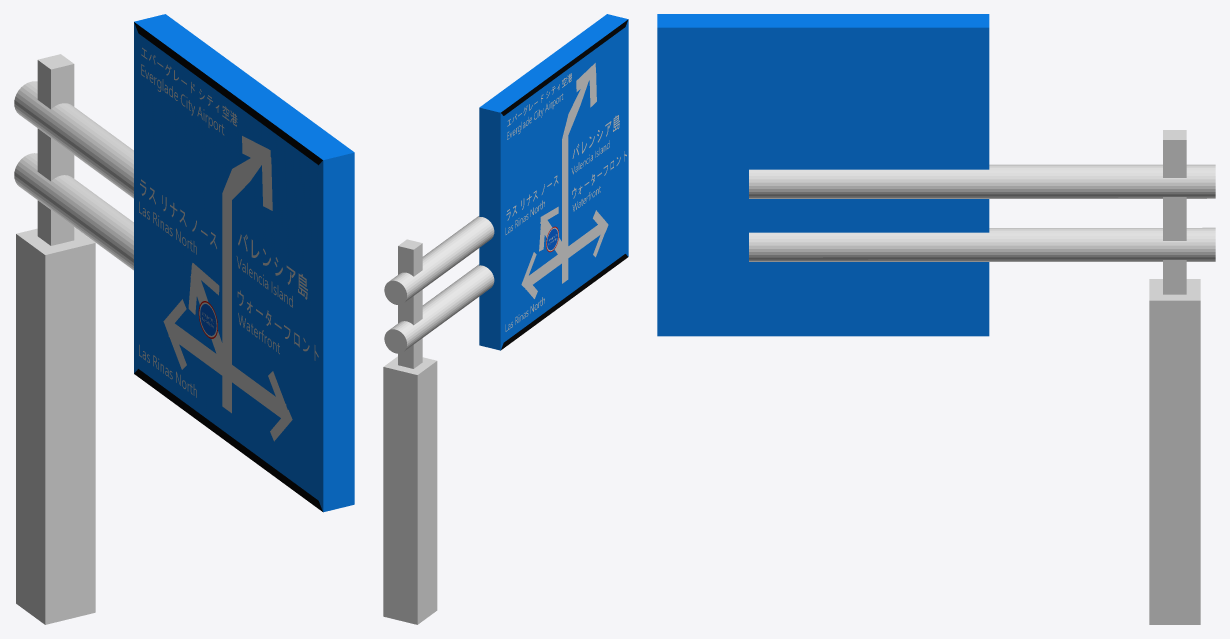
The model's file is japantown_sign_16.fbx.
The picture shows the model from 3 angles, left to right: view 1: azimuth 30°, elevation 25°; view 2: azimuth 150°, elevation 25°; view 3: azimuth 270°, elevation 25°; orthographic projection. The views are drawn at different scales.
Parts seen in each view (by area): view 1: Cube.003, Cube, Cylinder, Cylinder.001, Plane, Plane.008, Plane.001, Circle, Plane.005; view 2: Cube.003, Cube, Cylinder.001, Cylinder, Plane, Plane.008, Plane.001; view 3: Cube.003, Cube, Cylinder, Cylinder.001.
Boxes of the visible parts, x1,y1,x2,y2 form: Cube.003: (134, 14, 354, 512); Cube: (16, 54, 95, 624); Cylinder: (14, 81, 133, 198); Cylinder.001: (14, 153, 133, 270); Plane: (222, 158, 261, 413); Plane.008: (232, 365, 286, 420); Plane.001: (168, 320, 222, 375); Circle: (198, 301, 217, 338); Plane.005: (242, 136, 270, 167); Cube.003: (479, 14, 628, 350); Cube: (383, 239, 437, 624); Cylinder.001: (384, 264, 494, 353); Cylinder: (384, 216, 494, 304); Plane: (562, 81, 588, 283); Plane.008: (568, 225, 603, 257); Plane.001: (525, 252, 561, 289); Cube.003: (657, 14, 989, 336); Cube: (1149, 130, 1200, 624); Cylinder: (749, 164, 1215, 198); Cylinder.001: (749, 227, 1215, 261).
Size of the model in its own units: 6.54 by 76.11 by 65.5.
